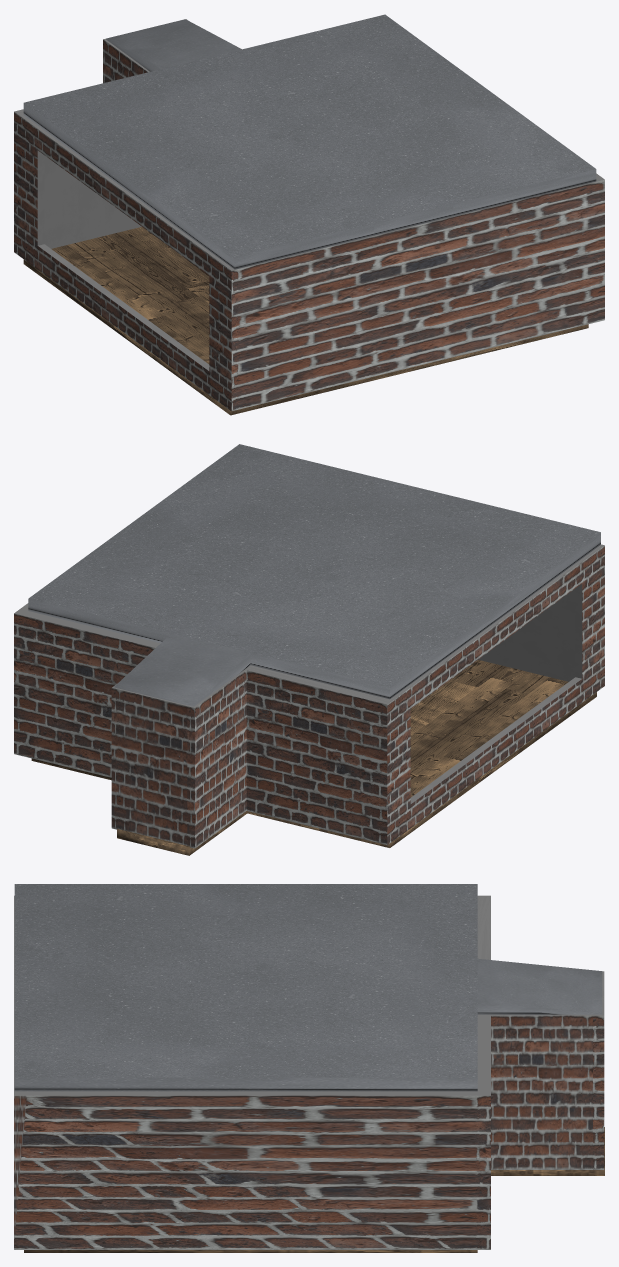
Rendered from room.glb.
3 views of the same model, one above another, from view 1: azimuth 30°, elevation 25°; view 2: azimuth 150°, elevation 25°; view 3: azimuth 270°, elevation 25° (orthographic). The views are drawn at different scales.
Parts seen in each view (by area): view 1: Plafond, Mur, Sol; view 2: Plafond, Mur, Sol; view 3: Plafond, Mur, Sol.
Part boxes in pixels (x1=…): Plafond: x1=23, y1=14, x2=596, y2=269; Mur: x1=14, y1=19, x2=604, y2=411; Sol: x1=23, y1=227, x2=588, y2=415; Plafond: x1=28, y1=444, x2=600, y2=706; Mur: x1=14, y1=544, x2=604, y2=848; Sol: x1=31, y1=660, x2=596, y2=855; Plafond: x1=14, y1=884, x2=602, y2=1091; Mur: x1=14, y1=895, x2=604, y2=1249; Sol: x1=24, y1=1127, x2=604, y2=1252.
Bounding box in the file's own units: 8.34 × 3.44 × 10.42.
Materials: 4 (4 with a texture image).
